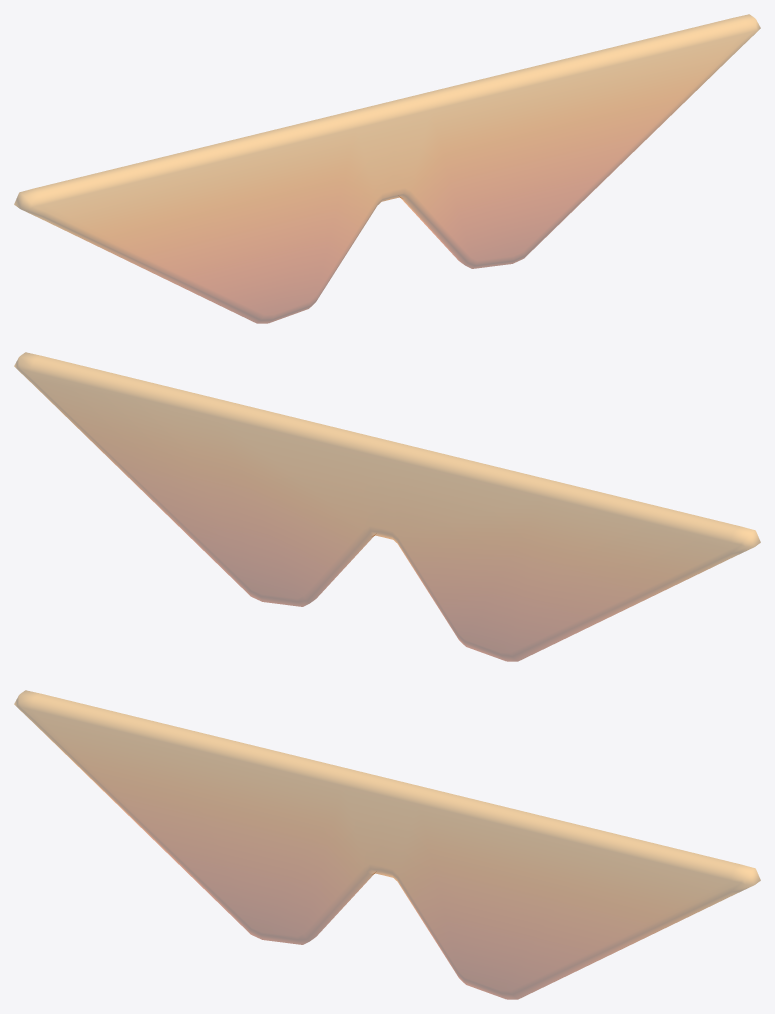
File: Glasses_17.glb
The picture shows the model from 3 angles, top to bottom: view 1: azimuth 30°, elevation 25°; view 2: azimuth 150°, elevation 25°; view 3: azimuth 330°, elevation 25°; orthographic projection.
Visible parts, largest first — view 1: Glasses_17; view 2: Glasses_17; view 3: Glasses_17.
Part boxes in pixels (x1,y1,x2,y2): Glasses_17: (14, 14, 760, 323); Glasses_17: (14, 352, 760, 661); Glasses_17: (14, 690, 760, 999).
Bounding box in the file's own units: 0.651 × 0.1564 × 0.0191.
1 material, 1 textured.
